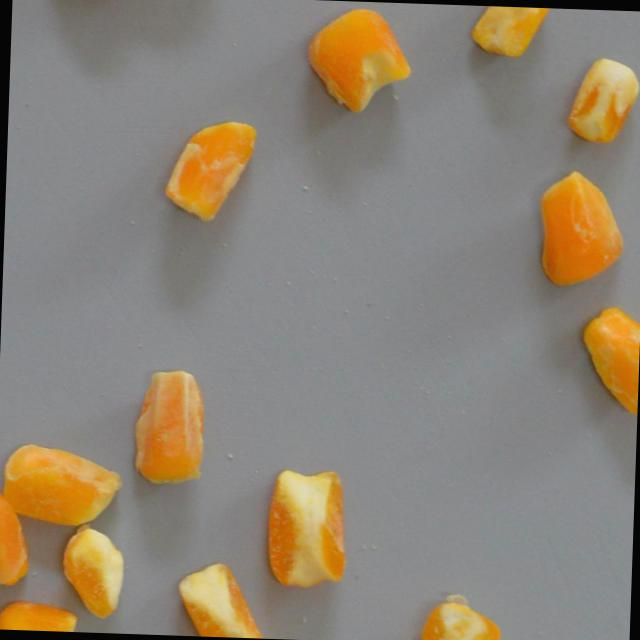dañado: (299, 3, 416, 118), (262, 462, 360, 593), (158, 113, 263, 227), (532, 168, 630, 290), (0, 440, 125, 531), (128, 362, 212, 491), (174, 558, 284, 639), (574, 301, 640, 418), (58, 522, 132, 623), (563, 53, 640, 147), (405, 585, 509, 640), (0, 479, 38, 592), (0, 597, 81, 632)
pelicula: (464, 5, 555, 60)
